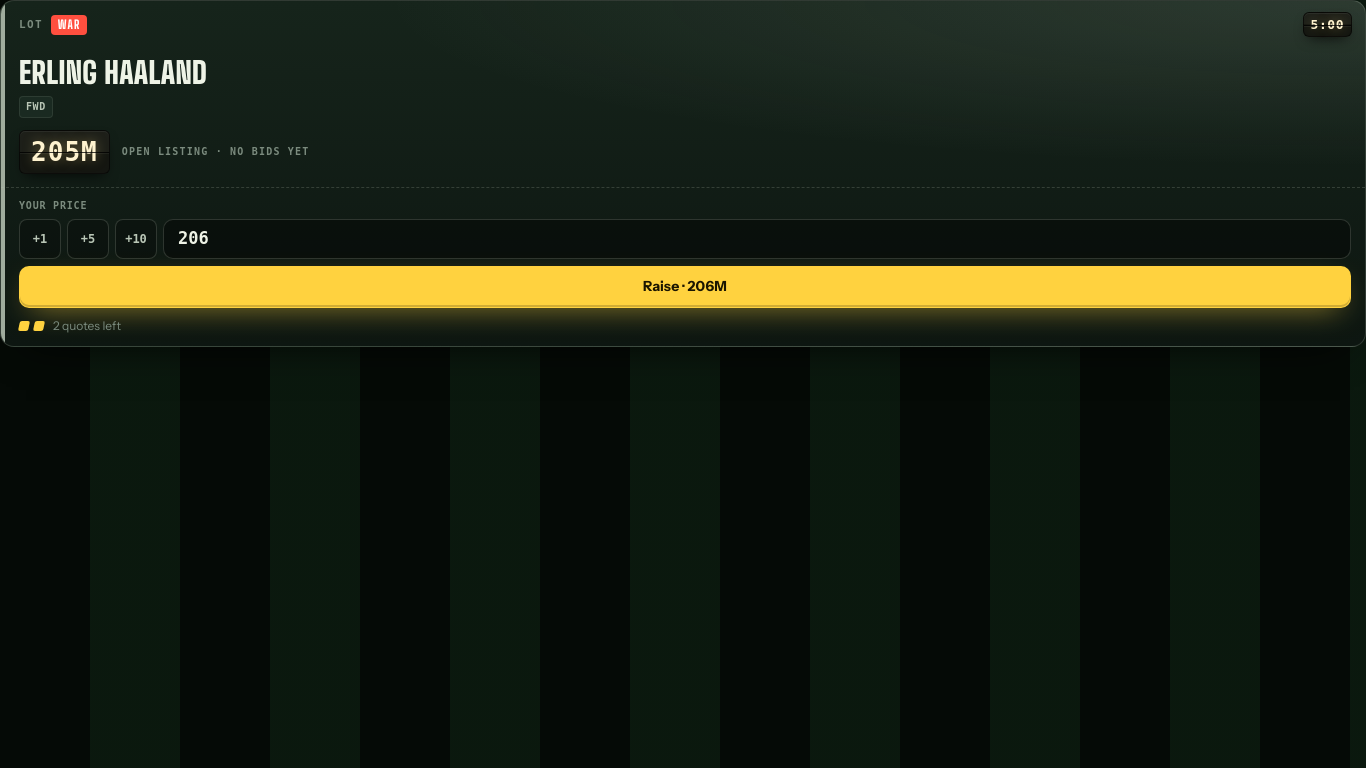
it: an empty price box can't be sent, and says what is needed
Clear the number field named "raise amount" at coordinates (757, 238), box [163,218,1351,258]
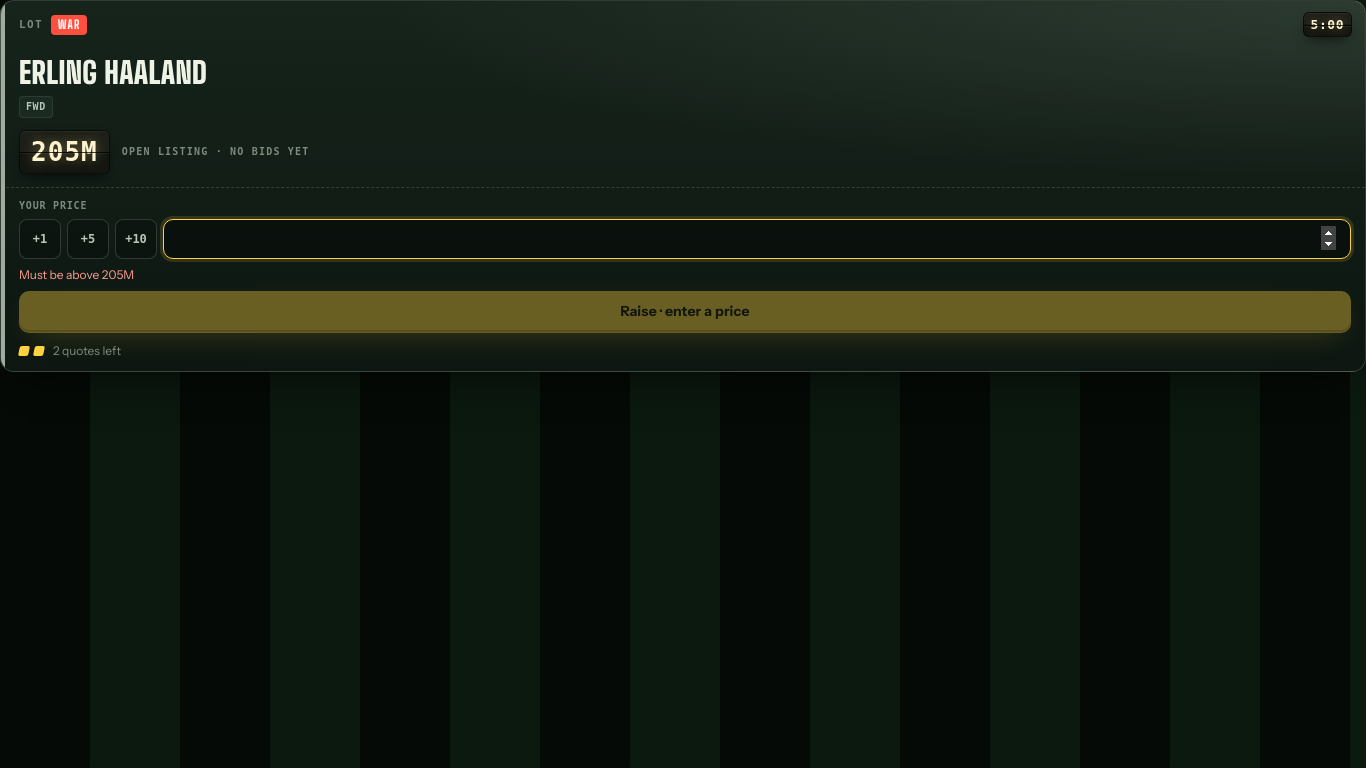
Result: the button "Raise · enter a price" is disabled at [19,290,1351,332]
Result: the text "Must be above 205M" is shown at [19,266,134,282]
